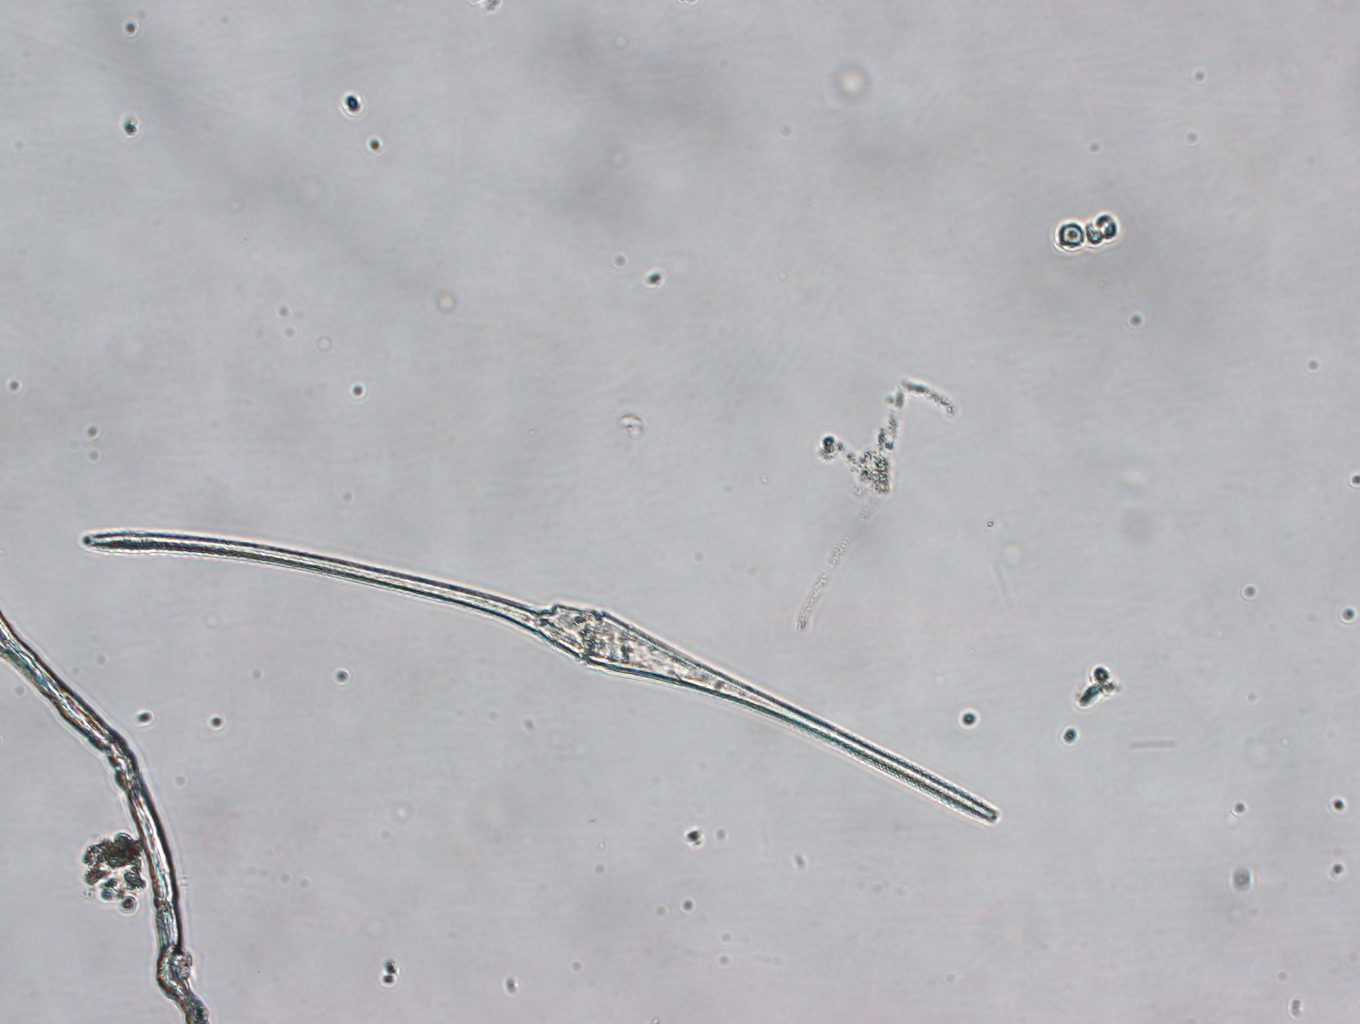ceratium fusus: (78, 532, 998, 824)
